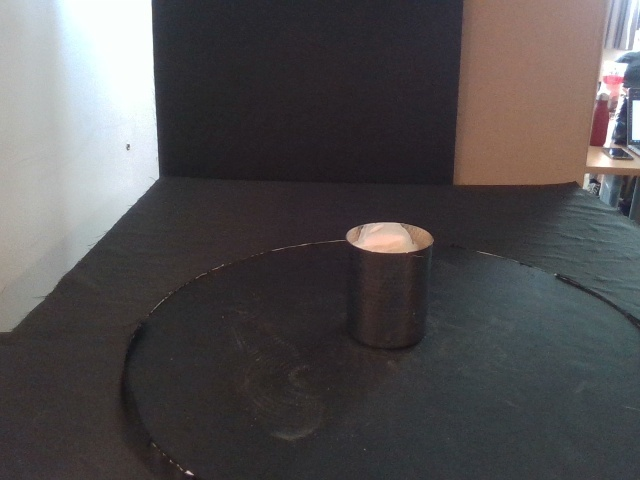candle: (345, 222, 435, 349)
